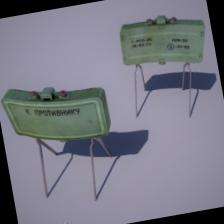MOH-50: (0, 62, 126, 203), (87, 6, 211, 88)
